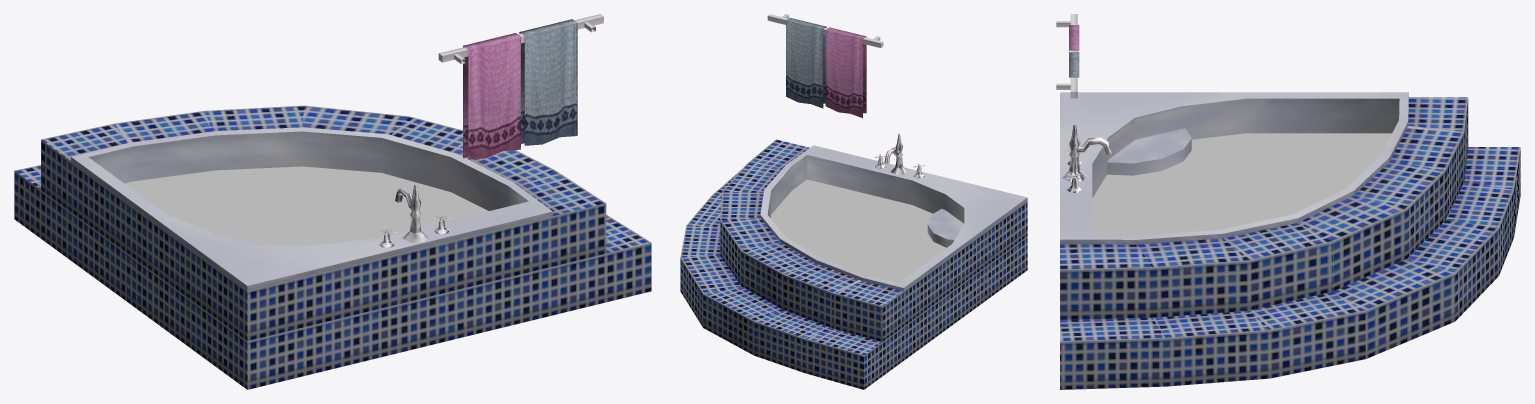
File: furni_0200046_03.FBX
The picture shows the model from 3 angles, left to right: view 1: azimuth 30°, elevation 25°; view 2: azimuth 150°, elevation 25°; view 3: azimuth 270°, elevation 25°; orthographic projection. The views are drawn at different scales.
Parts seen in each view (by area): view 1: furni_0200046; view 2: furni_0200046; view 3: furni_0200046.
Part boxes in pixels (x1,y1,x2,y2): furni_0200046: [14, 14, 651, 389]; furni_0200046: [680, 14, 1027, 389]; furni_0200046: [1056, 14, 1520, 389].
Size of the model in its own units: 160 by 107 by 162.
